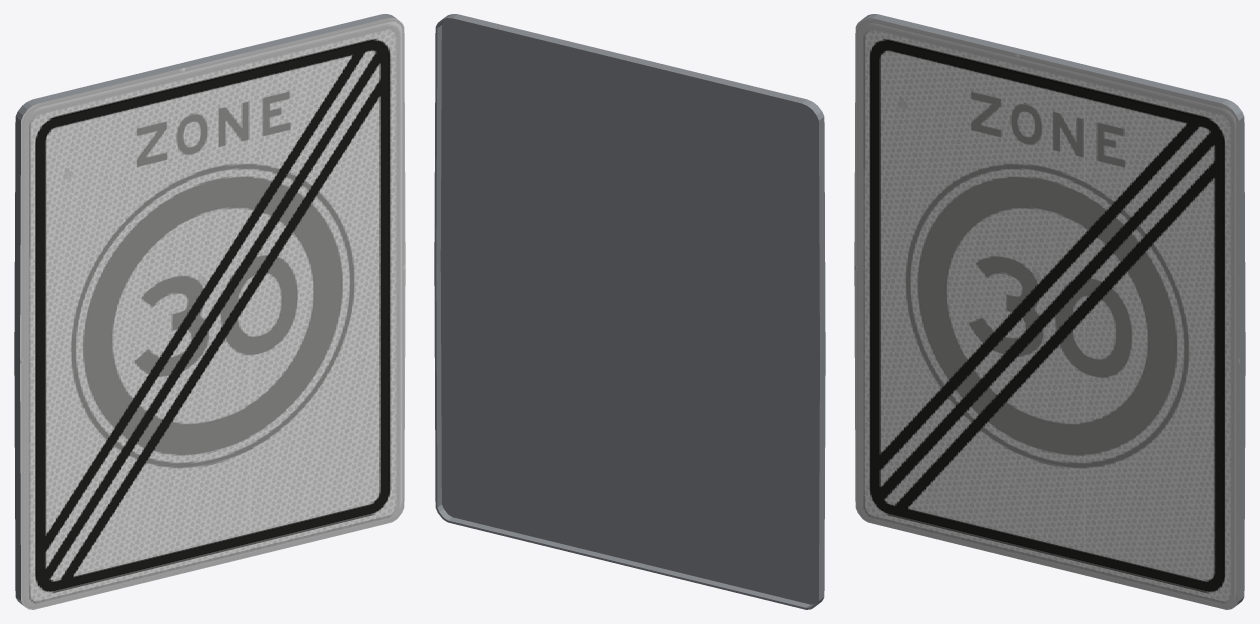
The picture shows the model from 3 angles, left to right: view 1: azimuth 30°, elevation 25°; view 2: azimuth 150°, elevation 25°; view 3: azimuth 330°, elevation 25°; orthographic projection.
Visible parts, largest first — view 1: cat_3d8f277d2697e7d8; view 2: cat_3d8f277d2697e7d8; view 3: cat_3d8f277d2697e7d8.
Boxes of the visible parts, bbox=[...] form: cat_3d8f277d2697e7d8: bbox=[14, 14, 405, 609]; cat_3d8f277d2697e7d8: bbox=[434, 14, 825, 609]; cat_3d8f277d2697e7d8: bbox=[854, 14, 1245, 609].
Size of the model in its own units: 0.6 by 0.015 by 0.7513.
Materials: 2 (1 with a texture image).
